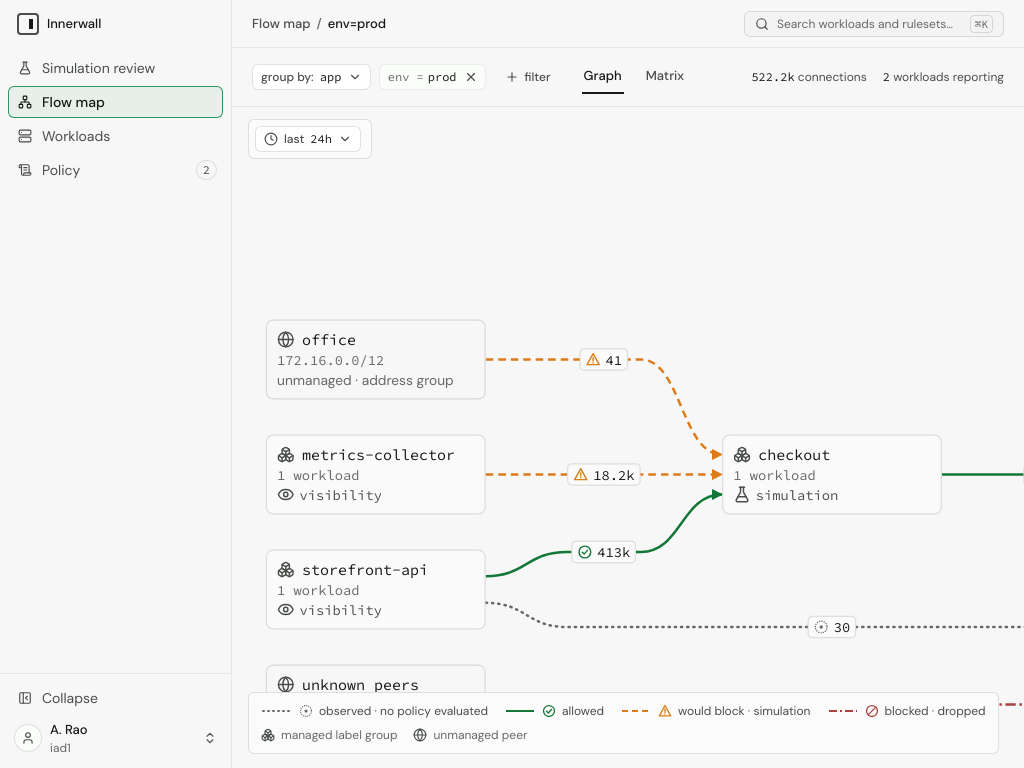
Scenario: flow map › opens an edge's decisions and pairs, and a pair's windows from GET /flows
Click the button named "metrics-collector to checkout: would block 18204 connections".
click(604, 475)  # box x1=567 y1=463 x2=641 y2=486
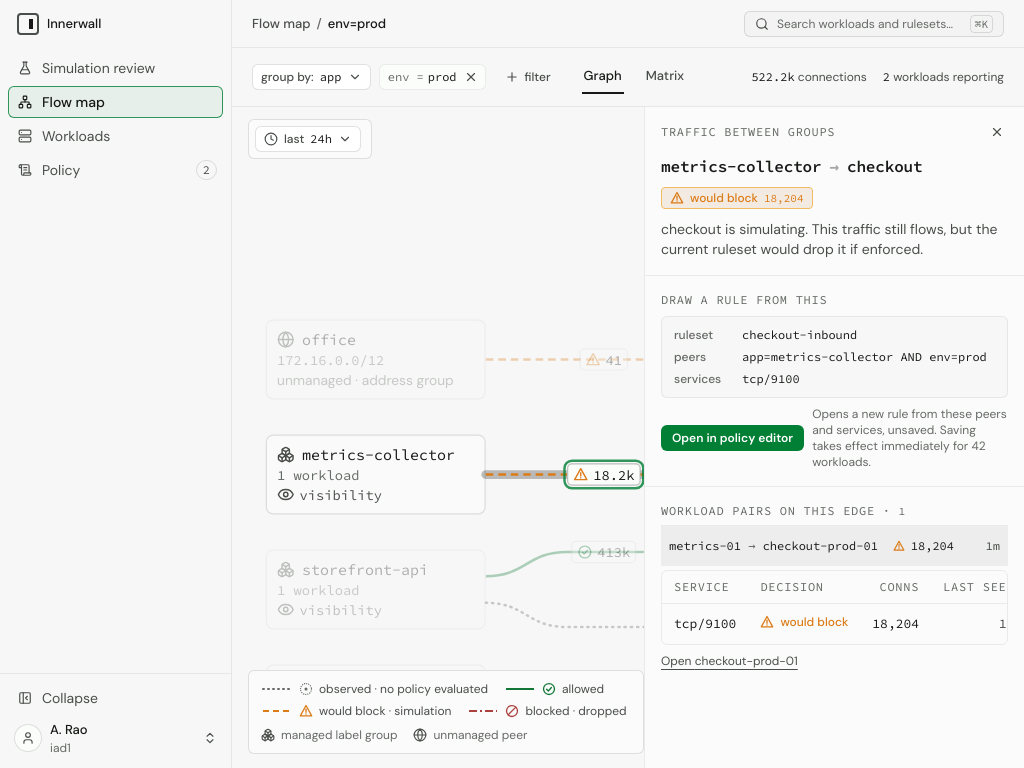
Expected: the element "Traffic between groups" shows "would block18,204", x1=644 y1=107 x2=1023 y2=767
Expected: the element "Traffic between groups" shows "checkout is simulating. This traffic still flows, but the current ruleset would drop it if enforced.", x1=661 y1=220 x2=997 y2=258
Expected: the text with test id "rule-peers" reads "app=metrics-collector AND env=prod", x1=742 y1=349 x2=987 y2=364
# Closing clears the selection.
Click the button named "Close".
click(997, 132)  # box x1=980 y1=119 x2=1014 y2=145
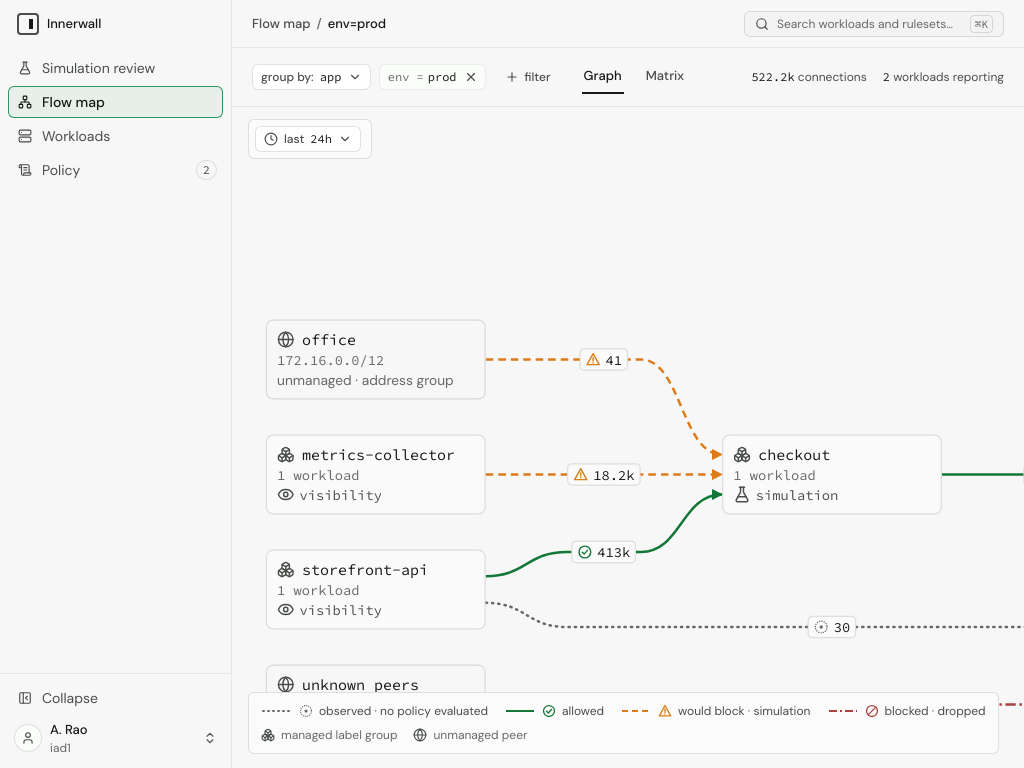
Expected: the text "Traffic between groups" is gone
